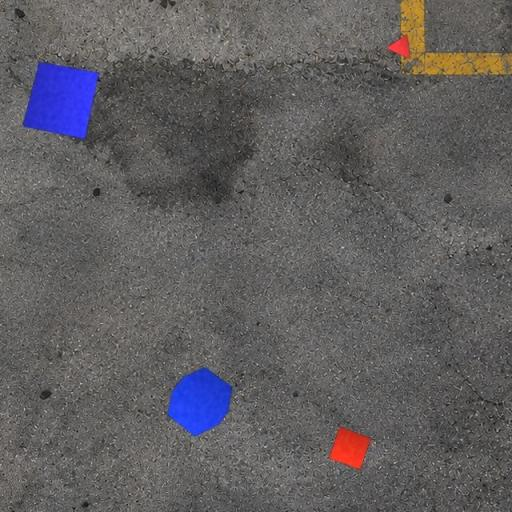BLUE_SQUARE: (22, 62, 100, 140)
RED_SQUARE: (328, 426, 372, 470)
